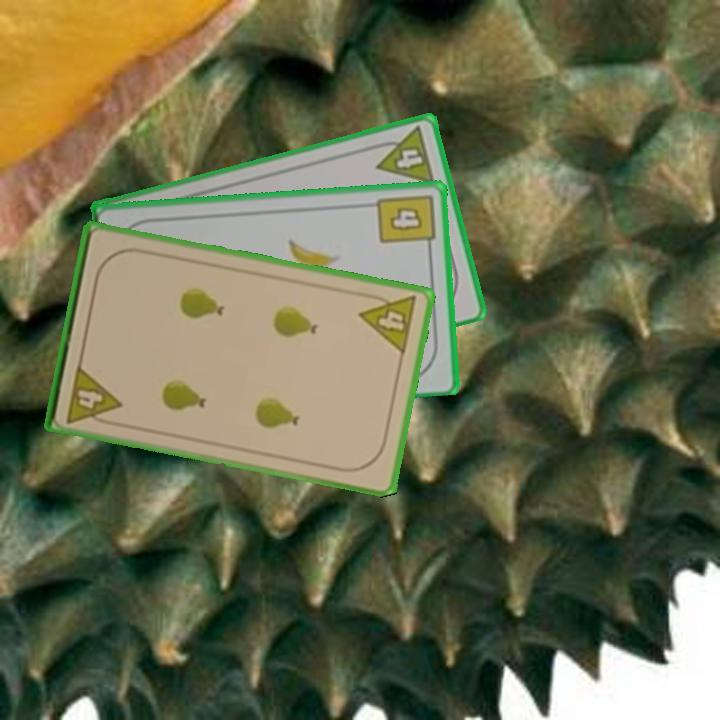4b: (374, 190, 437, 254)
4p: (368, 123, 438, 187), (356, 288, 420, 357), (63, 361, 124, 429)
